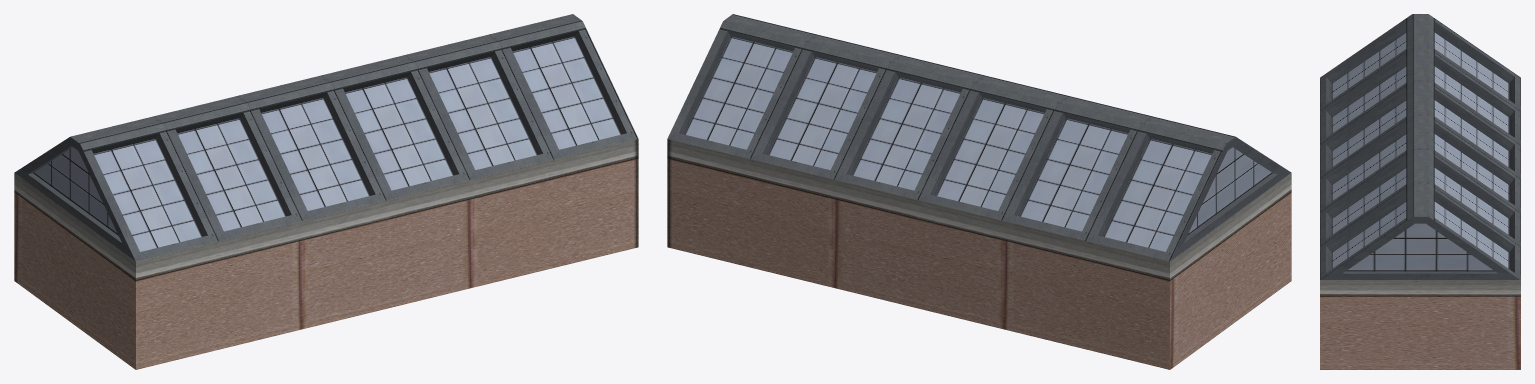
Rendered from roof addon6.FBX.
3 renders of one model, left to right at view 1: azimuth 30°, elevation 25°; view 2: azimuth 150°, elevation 25°; view 3: azimuth 270°, elevation 25°, orthographic. The views are drawn at different scales.
Parts seen in each view (by area): view 1: roof addon6; view 2: roof addon6; view 3: roof addon6.
Part boxes in pixels (bbox=[...]): roof addon6: bbox=[14, 14, 638, 369]; roof addon6: bbox=[667, 14, 1291, 369]; roof addon6: bbox=[1320, 14, 1520, 369].
Size of the model in its own units: 18.22 by 6.41 by 7.63.
